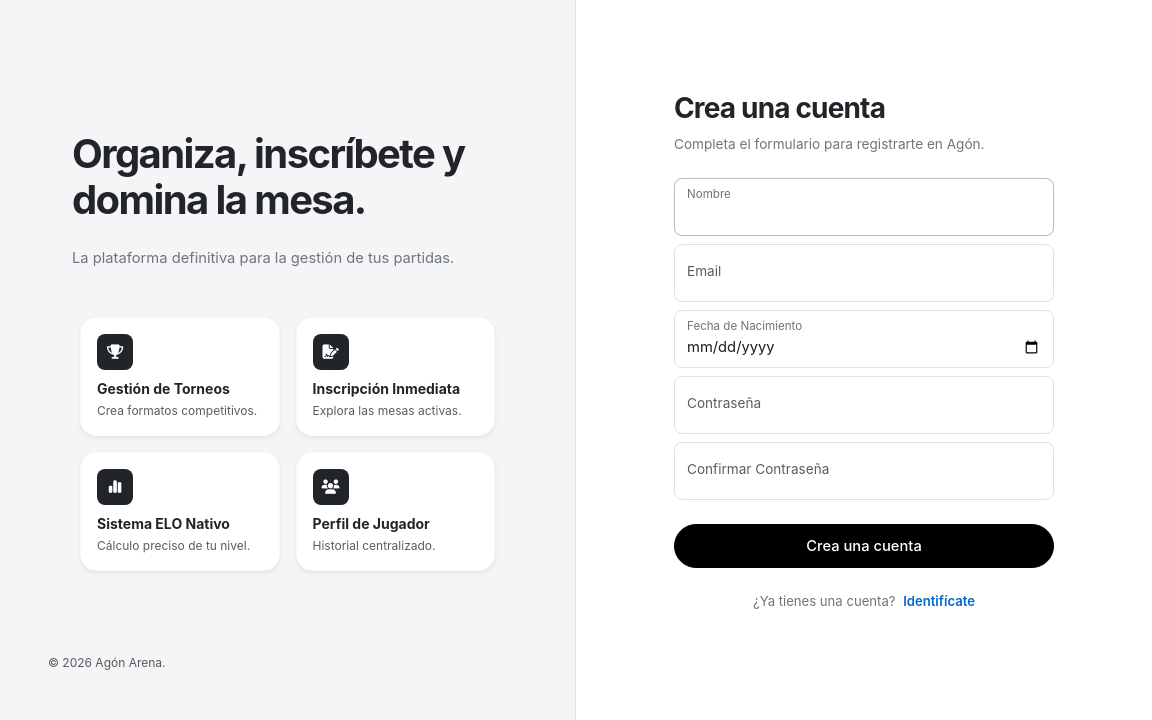
Test: SignUp › no registra si las contrasenas no coinciden
Type "ana" into the field with placeholder "Nombre".
click(864, 207); type("ana")  # box [674,178,1054,236]
Type "ana@test.com" into the field with placeholder "Email".
click(864, 273); type("ana@test.com")  # box [674,244,1054,302]
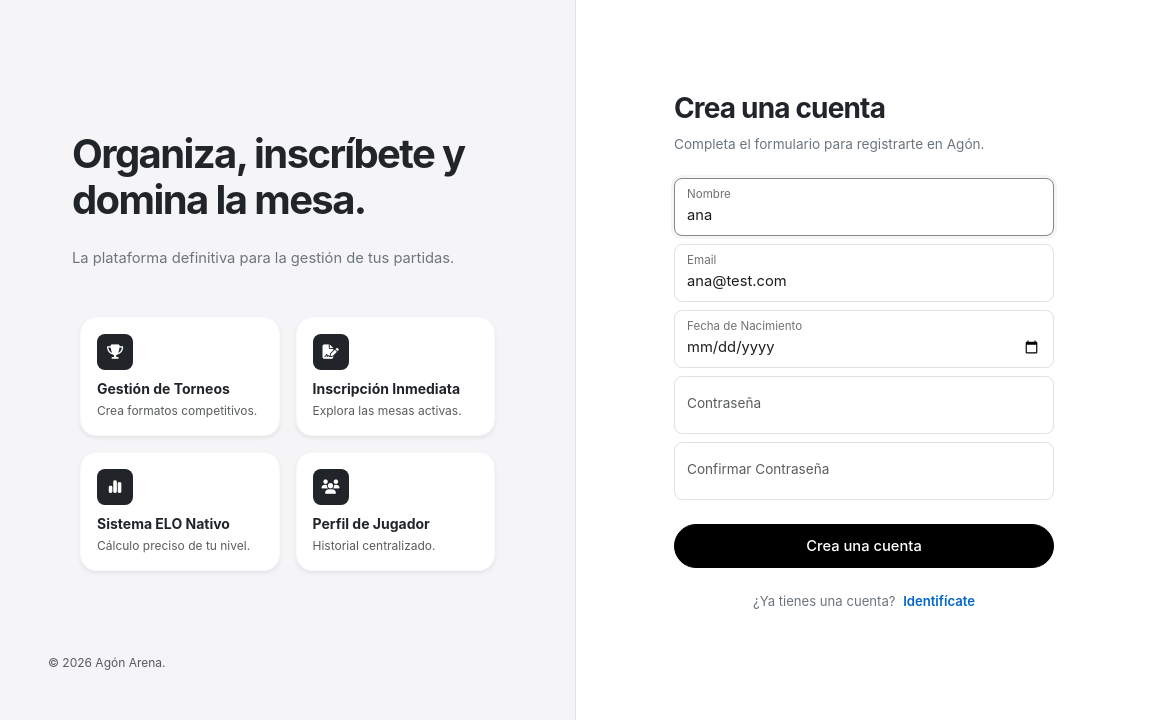
Type "2000-01-01" into the date field with placeholder "Fecha de Nacimiento".
click(864, 339); type("2000-01-01")  # box [674,310,1054,368]
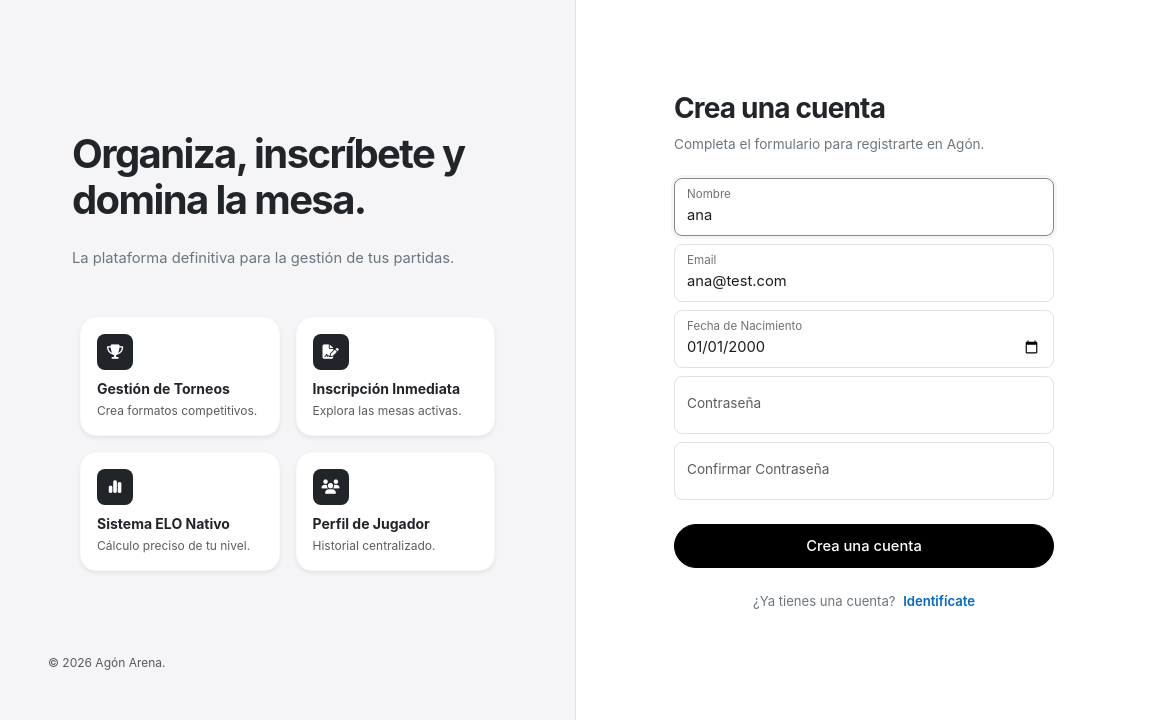
Type "Abcdef12@" into the password field with placeholder "Contraseña".
click(864, 405); type("Abcdef12@")  # box [674,376,1054,434]
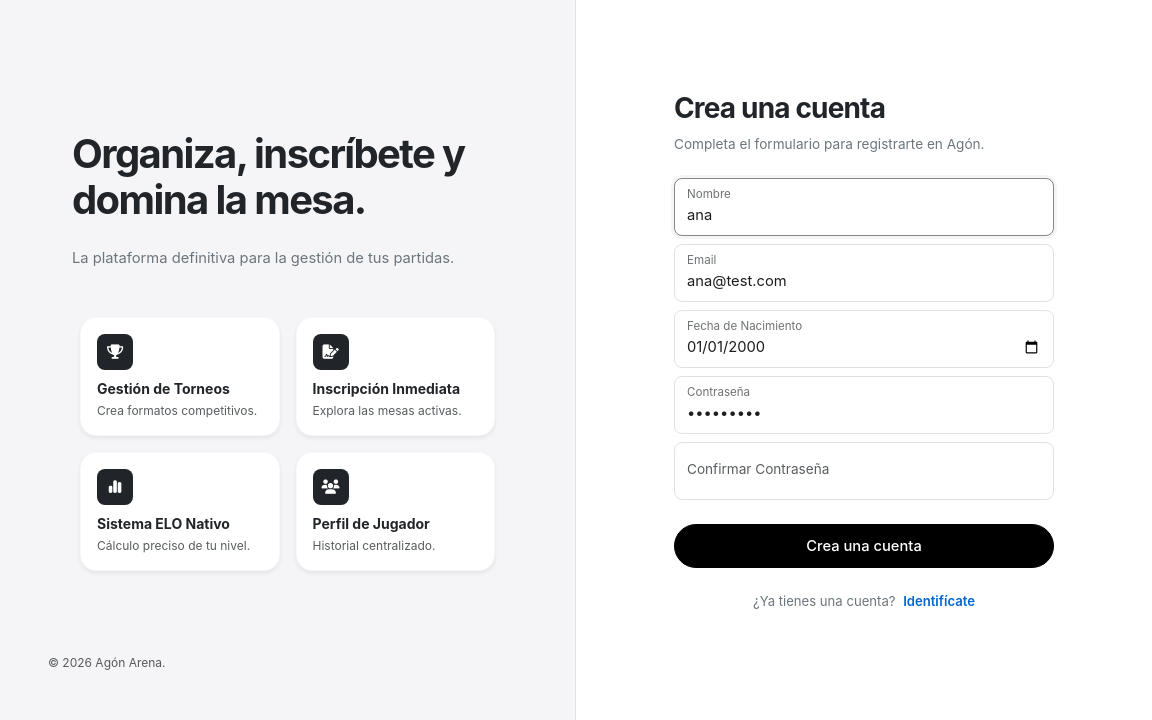
Type "Abcdef12@" into the password field with placeholder "Confirmar Contraseña".
click(864, 471); type("Abcdef12@")  # box [674,442,1054,500]
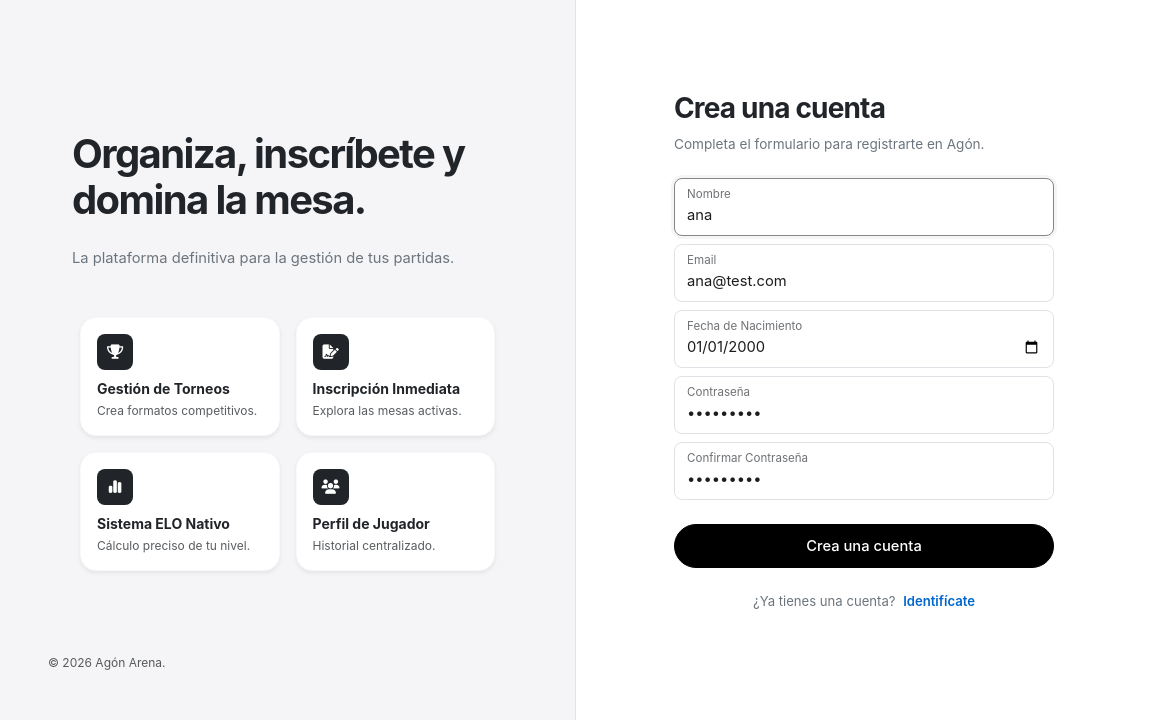
Type "Otra123@" into the password field with placeholder "Confirmar Contraseña".
click(864, 471); type("Otra123@")  # box [674,442,1054,500]
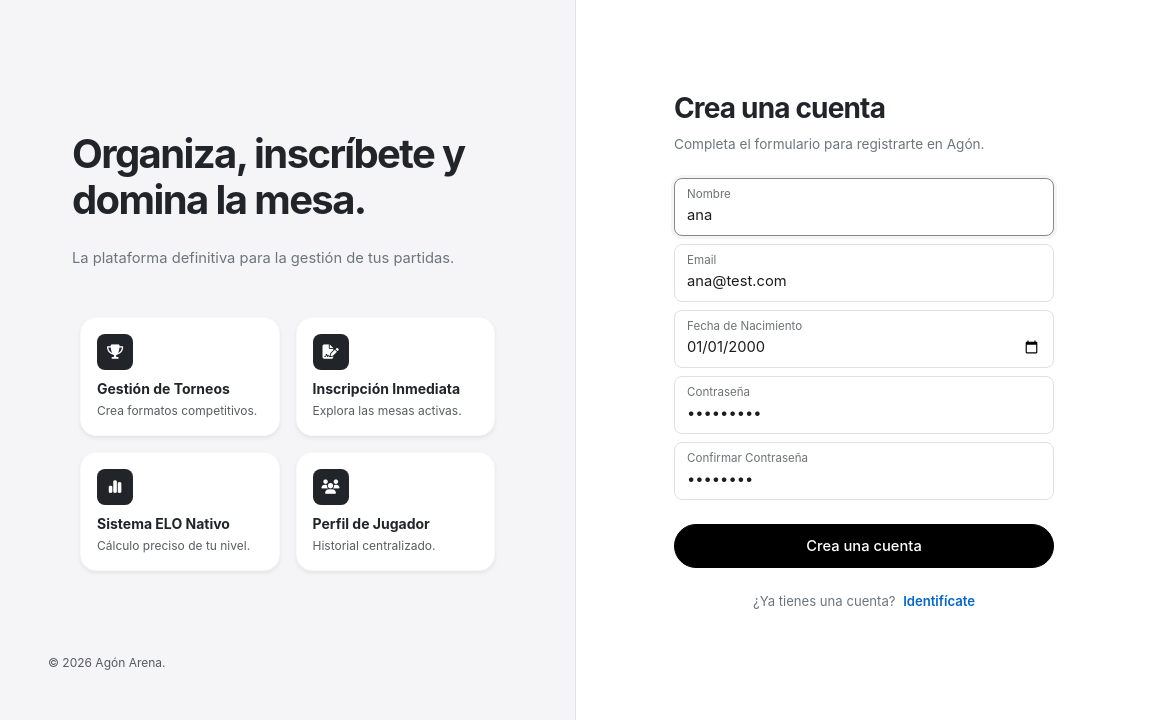
Submit the form, box [674,178,1054,568]
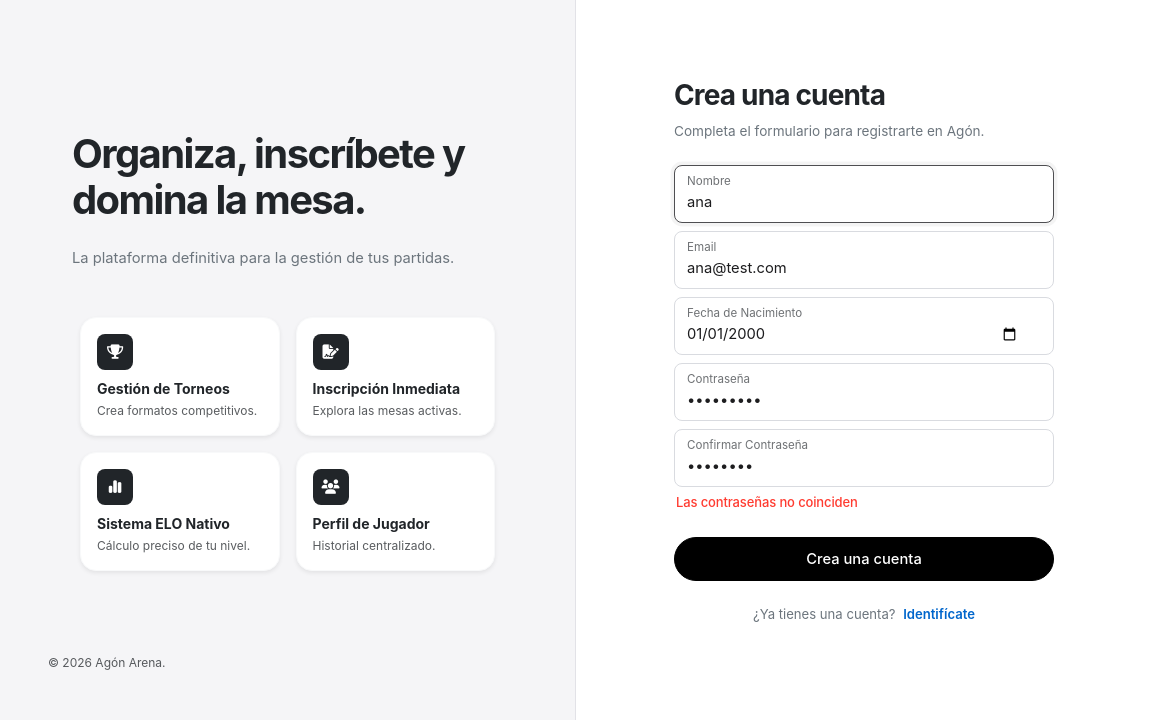
Expected: the text "Las contraseñas no coinciden" is shown, [676,494,858,510]
